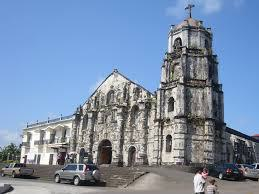daraga_church_daraga_albay: (70, 2, 223, 165)
